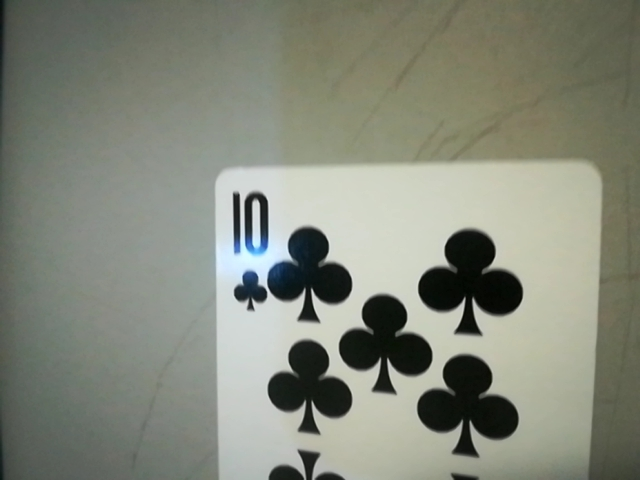mh 10: (215, 179, 277, 316)
